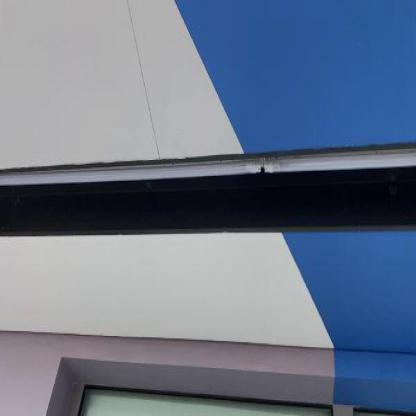light_off: (0, 92, 413, 218)
